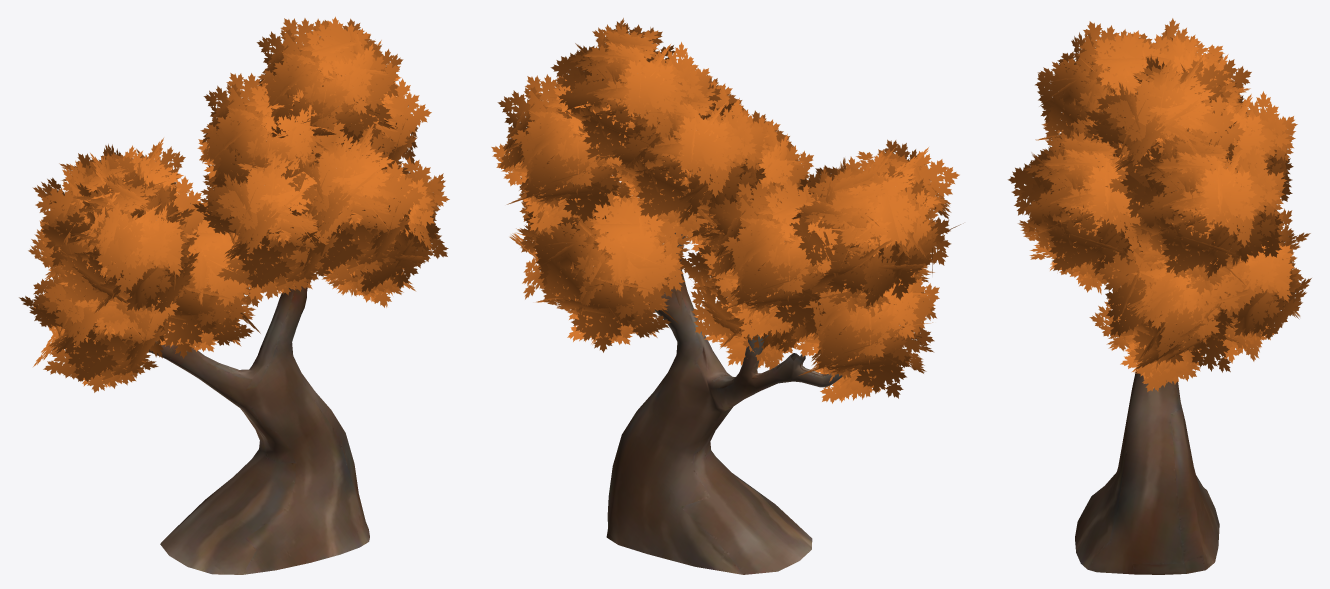
Rendered from TreeV2.glb.
3 views of the same model, side by side, from view 1: azimuth 30°, elevation 25°; view 2: azimuth 150°, elevation 25°; view 3: azimuth 270°, elevation 25° (orthographic). The views are drawn at different scales.
Visible parts, largest first — view 1: Leaves.002, Tree.004; view 2: Leaves.002, Tree.004; view 3: Leaves.002, Tree.004.
Part boxes in pixels (x1,y1,x2,y2): Leaves.002: (19,16,449,392); Tree.004: (149,282,369,574); Leaves.002: (491,18,963,403); Tree.004: (606,233,842,574); Leaves.002: (1008,18,1311,392); Tree.004: (1075,370,1219,574).
Size of the model in its own units: 8.62 by 9.78 by 5.43.
Materials: 2 (2 with a texture image).
